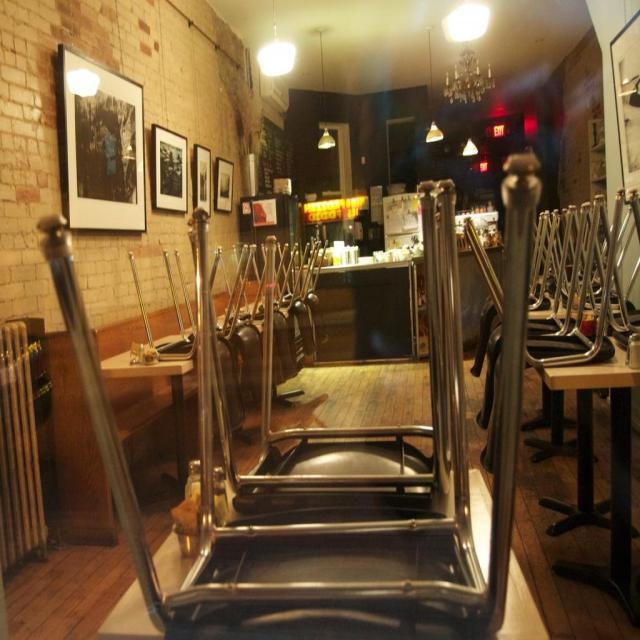Table: (109, 333, 197, 520)
